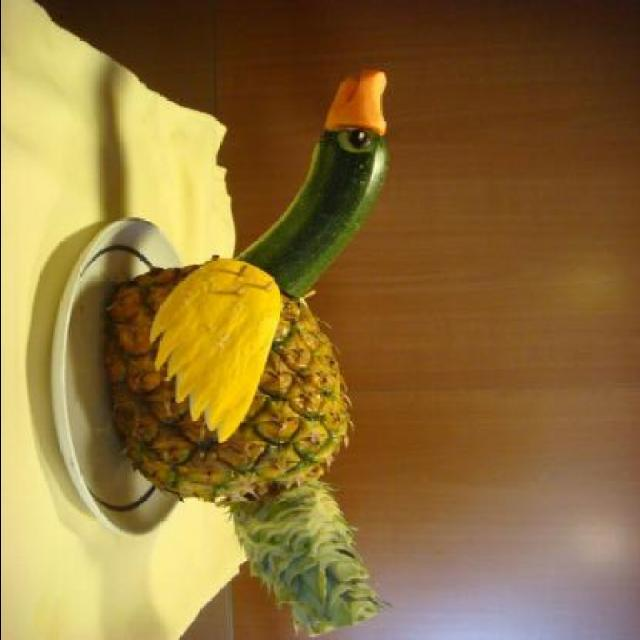Pineapple: (80, 249, 343, 502)
